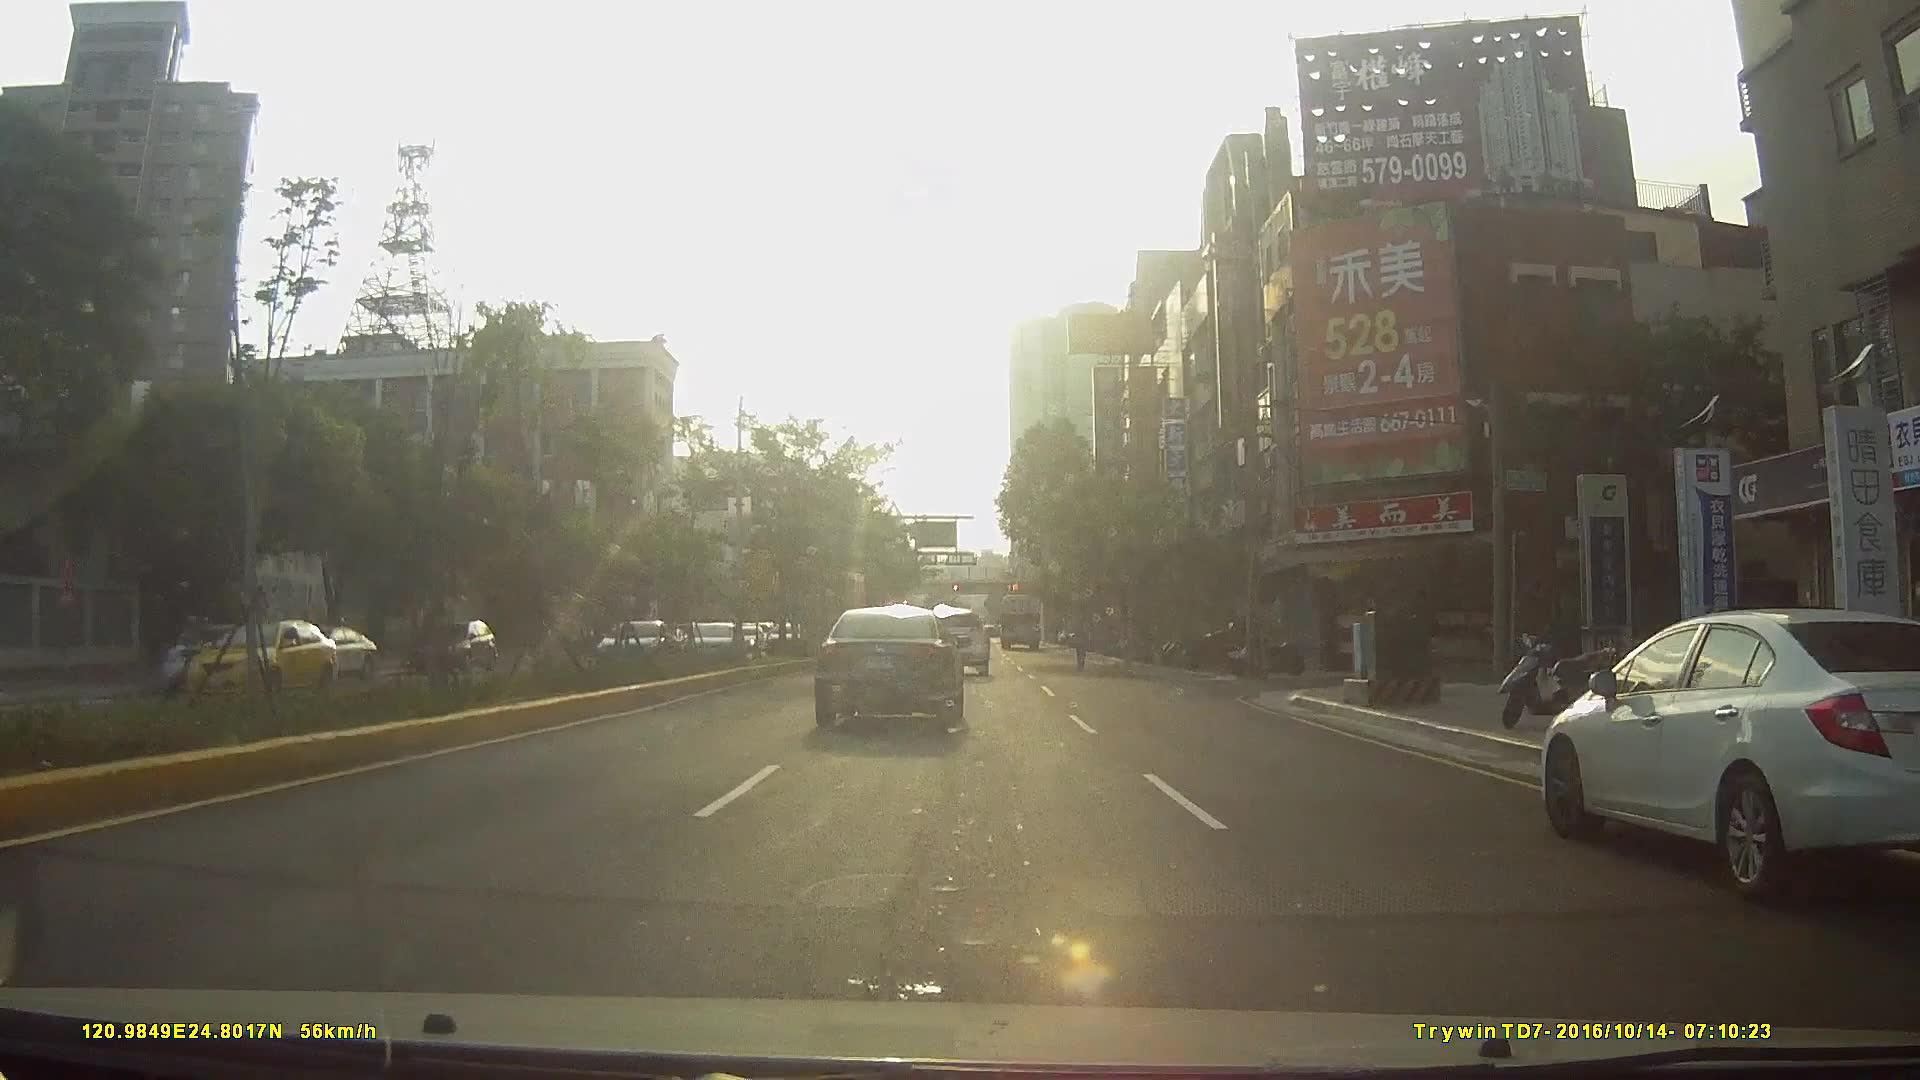vehicle: (1528, 605, 1920, 905), (150, 611, 347, 713), (812, 604, 965, 731), (162, 618, 280, 690), (276, 622, 372, 679), (916, 603, 992, 675), (404, 616, 495, 671), (589, 617, 675, 670), (679, 618, 742, 663), (997, 589, 1042, 649), (612, 620, 653, 657)
